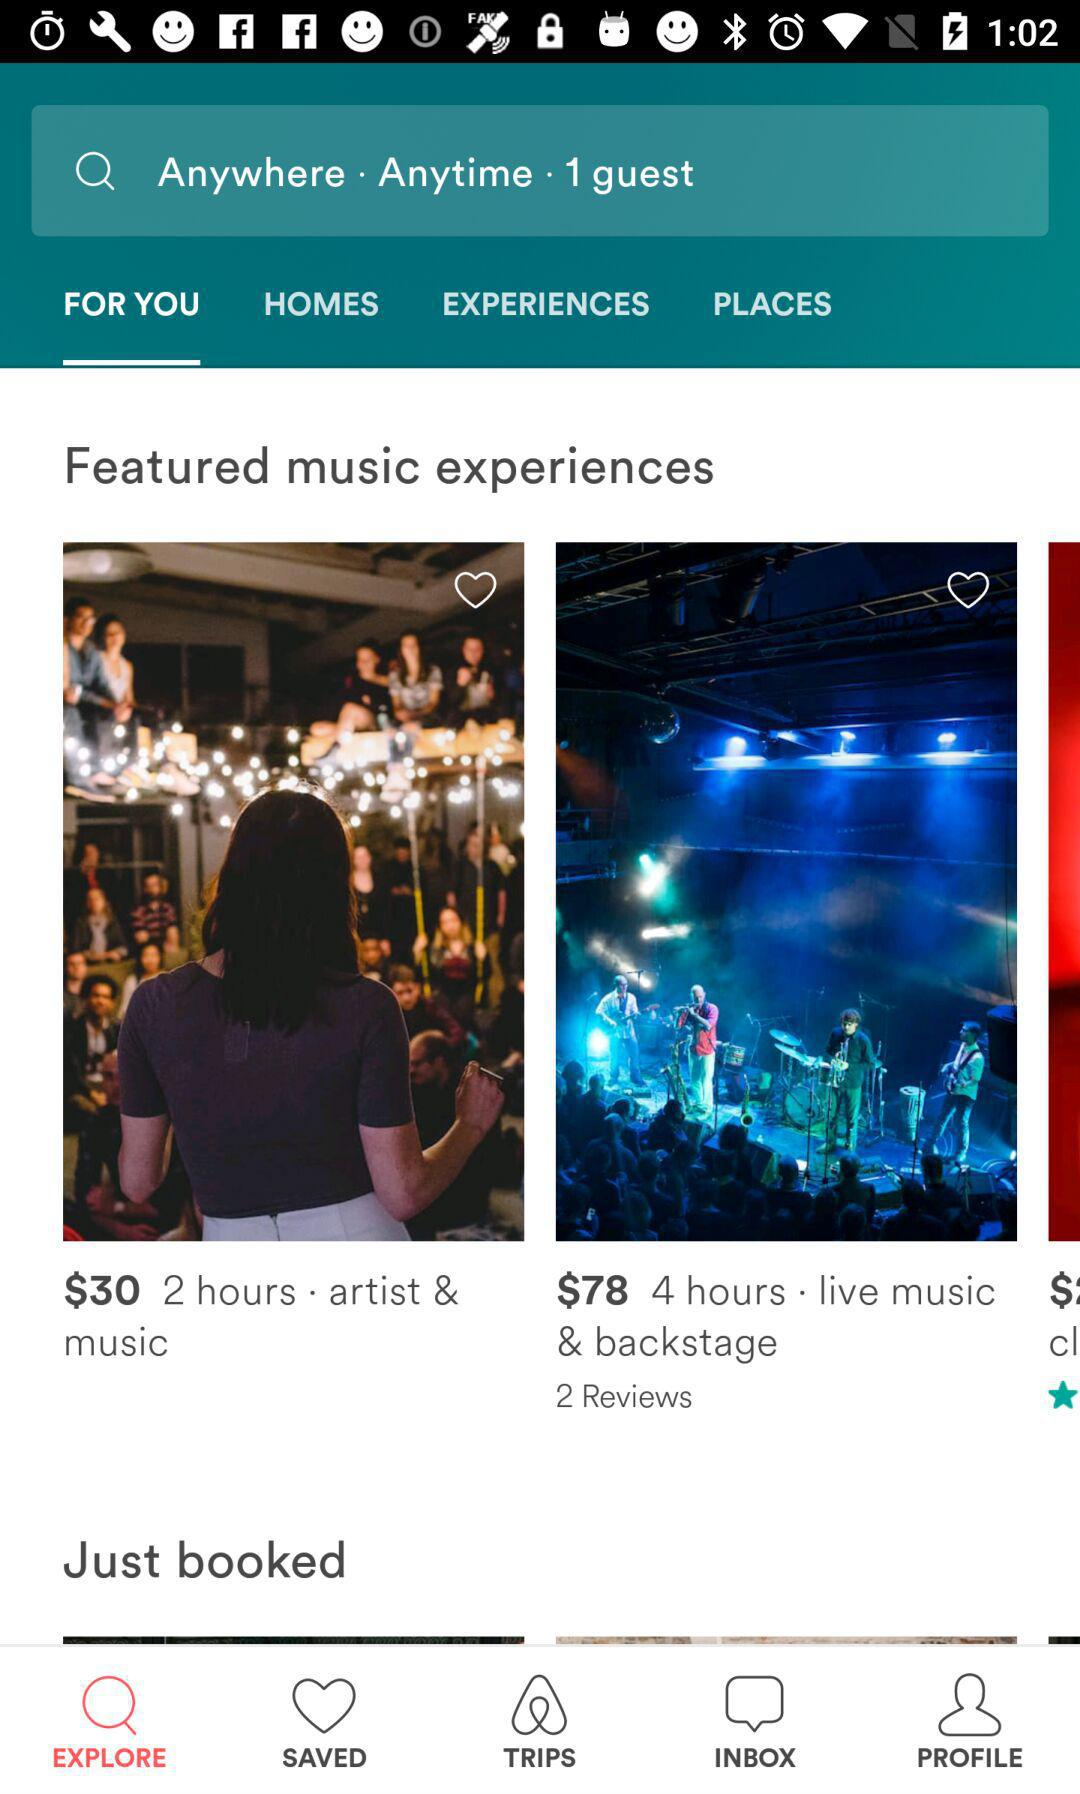EditText: (32, 105, 1051, 238)
Icon: (938, 1672, 1003, 1738), (292, 1677, 357, 1735), (725, 1675, 785, 1732), (82, 1675, 138, 1736), (947, 572, 990, 610), (455, 572, 498, 610), (76, 152, 117, 192)
Image: (556, 543, 1019, 1242), (64, 542, 525, 1242), (511, 1674, 568, 1736)
Text: (557, 1270, 995, 1365), (65, 1270, 459, 1358), (67, 446, 714, 495), (159, 156, 694, 197), (63, 1539, 347, 1581), (445, 291, 650, 318), (556, 1383, 693, 1410), (65, 292, 200, 318), (714, 292, 831, 318), (265, 292, 380, 317), (53, 1747, 168, 1768), (917, 1747, 1024, 1768), (282, 1747, 368, 1768), (715, 1747, 797, 1768), (503, 1747, 577, 1768)
UpperTaskBar: (1, 1, 1080, 64)
